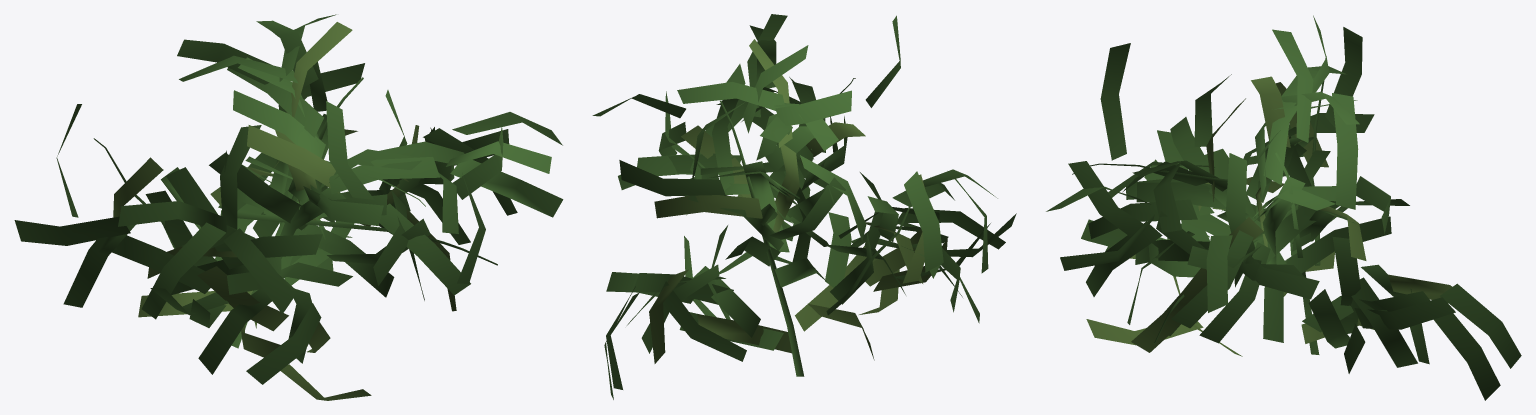
File: arbusto_2_longe.glb
3 views of the same model, side by side, from view 1: azimuth 30°, elevation 25°; view 2: azimuth 150°, elevation 25°; view 3: azimuth 270°, elevation 25° (orthographic). The views are drawn at different scales.
Visible parts, largest first — view 1: arbusto_2_longe; view 2: arbusto_2_longe; view 3: arbusto_2_longe.
Boxes of the visible parts, box(x1,y1,x2,y2) form: arbusto_2_longe: box(14, 14, 563, 400); arbusto_2_longe: box(592, 14, 1016, 399); arbusto_2_longe: box(1046, 15, 1521, 400).
Bounding box in the file's own units: 1.14 × 0.7968 × 1.04.
